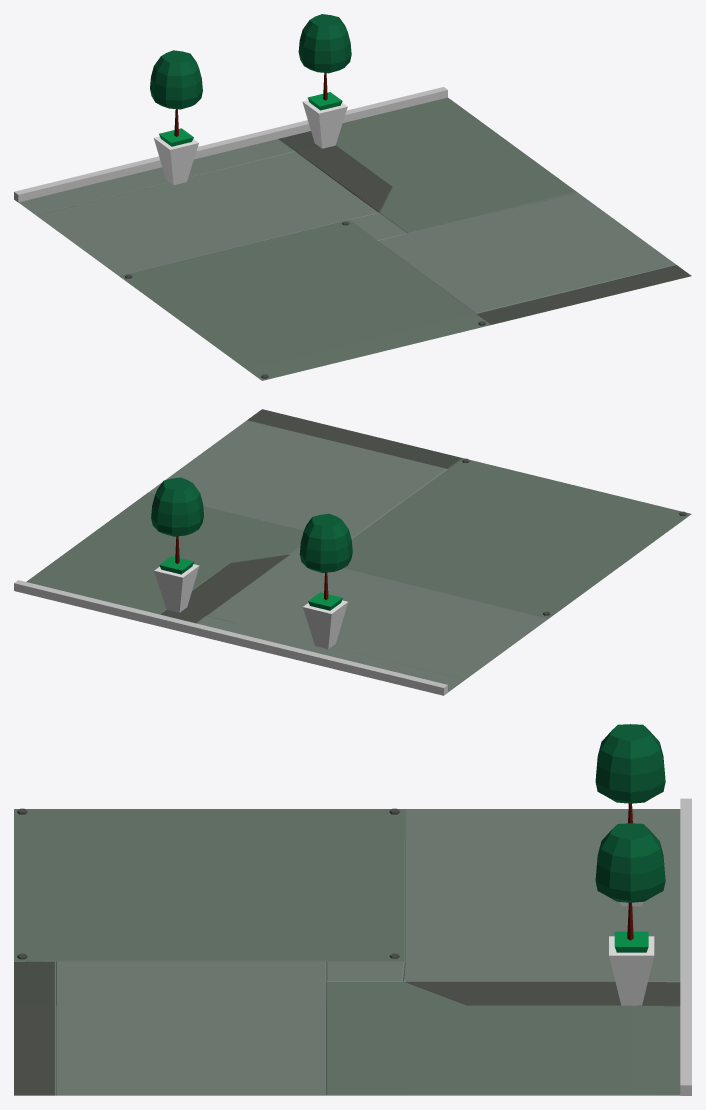
3 renders of one model, top to bottom at view 1: azimuth 30°, elevation 25°; view 2: azimuth 150°, elevation 25°; view 3: azimuth 270°, elevation 25°, orthographic. The views are drawn at different scales.
Parts seen in each view (by area): view 1: Scifi_Panel_04_Plaza014_group4.012_Scifi_Panel_04_Plaza014_group, Cube.637_Cube.754, base_singlePot03.013, base_singlePot03.012; view 2: Scifi_Panel_04_Plaza014_group4.012_Scifi_Panel_04_Plaza014_group, Cube.637_Cube.754, base_singlePot03.013, base_singlePot03.012; view 3: Scifi_Panel_04_Plaza014_group4.012_Scifi_Panel_04_Plaza014_group, base_singlePot03.012, base_singlePot03.013, Cube.637_Cube.754.
Part boxes in pixels (bbox=[...]): Scifi_Panel_04_Plaza014_group4.012_Scifi_Panel_04_Plaza014_group: bbox=[18, 97, 691, 380]; Cube.637_Cube.754: bbox=[14, 87, 447, 202]; base_singlePot03.013: bbox=[150, 50, 202, 185]; base_singlePot03.012: bbox=[298, 14, 351, 148]; Scifi_Panel_04_Plaza014_group4.012_Scifi_Panel_04_Plaza014_group: bbox=[26, 409, 691, 692]; Cube.637_Cube.754: bbox=[14, 580, 447, 695]; base_singlePot03.013: bbox=[299, 513, 352, 649]; base_singlePot03.012: bbox=[151, 477, 203, 612]; Scifi_Panel_04_Plaza014_group4.012_Scifi_Panel_04_Plaza014_group: bbox=[14, 808, 680, 1095]; base_singlePot03.012: bbox=[595, 823, 665, 1005]; base_singlePot03.013: bbox=[595, 724, 665, 906]; Cube.637_Cube.754: bbox=[680, 798, 691, 1095].
Size of the model in its own units: 10 by 2.78 by 10.
